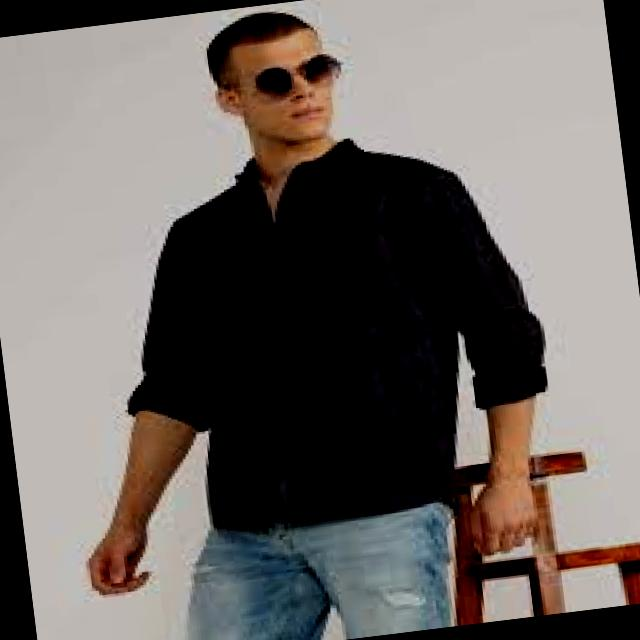face: (215, 29, 334, 144)
lower-wear: (185, 501, 452, 639)
top-wear: (94, 121, 560, 538)
